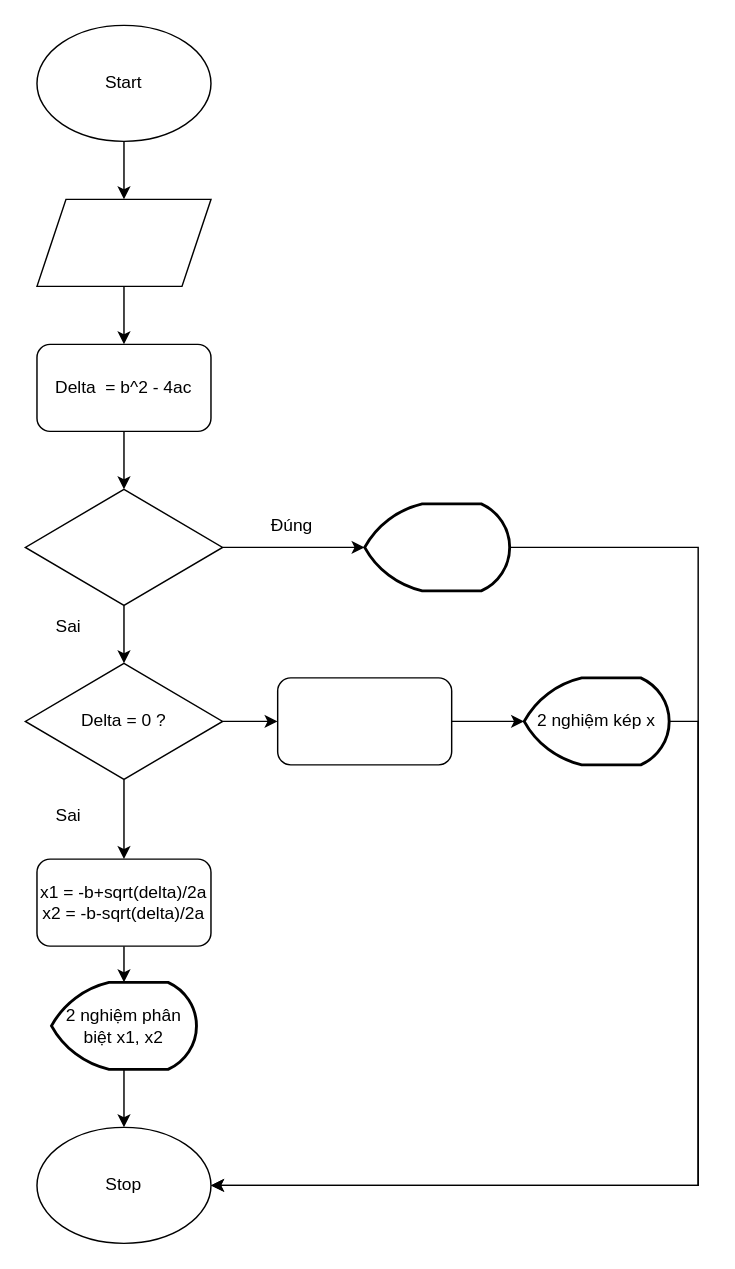
Image size: 735x1269. Some labels were removed from this diagram. The centre of each missing label's shape, as x and y in pixels:
"Delta < 0 ?" goes at point (123, 546).
"Nhập a, b, c" goes at point (123, 242).
"Phương trình vô nghiệm" goes at point (436, 547).
"x = -b / 2a" goes at point (364, 720).
